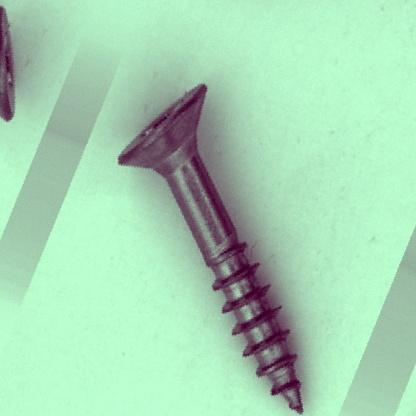metal: (116, 82, 305, 412)
